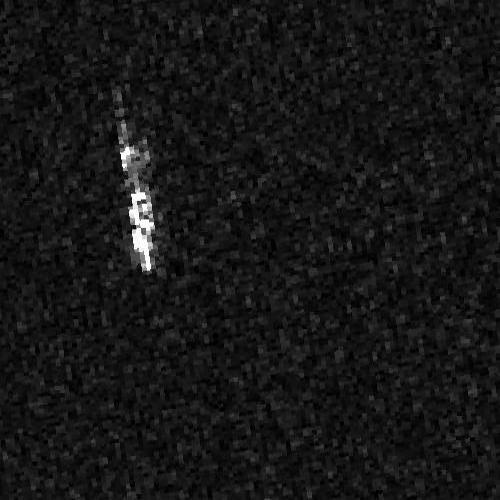ship: (119, 142, 157, 276)
